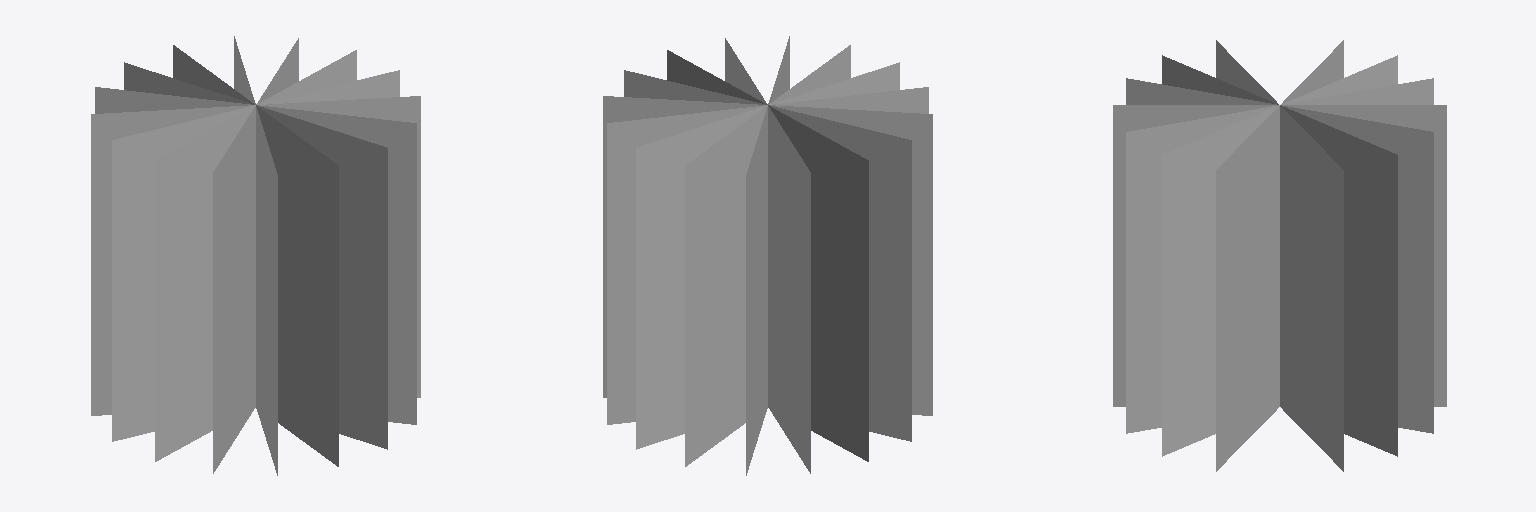
Rendered from super-high-dem-plant.obj.
The picture shows the model from 3 angles: view 1: azimuth 30°, elevation 25°; view 2: azimuth 150°, elevation 25°; view 3: azimuth 270°, elevation 25°; orthographic projection.
Parts seen in each view (by area): view 1: Plane; view 2: Plane; view 3: Plane.
Boxes of the visible parts, box(x1,y1,x2,y2) form: Plane: box(91, 36, 420, 475); Plane: box(603, 36, 932, 475); Plane: box(1113, 40, 1446, 471).
Bounding box in the file's own units: 2 × 2 × 2.